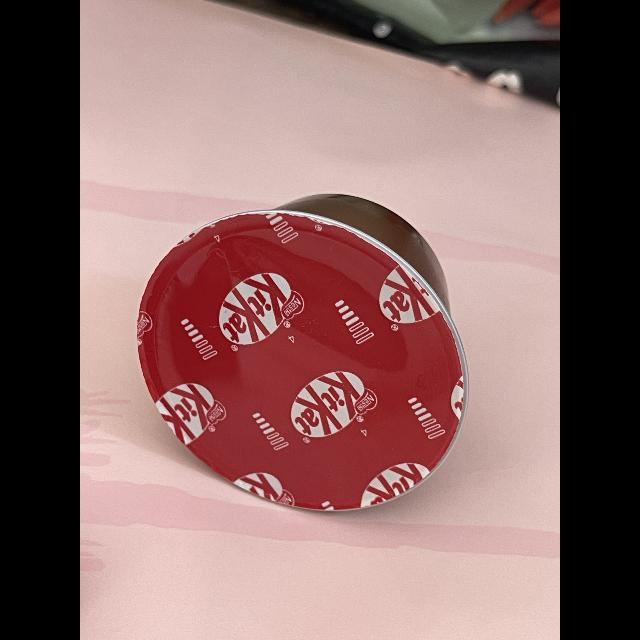intact_capsule: (122, 175, 510, 523)
